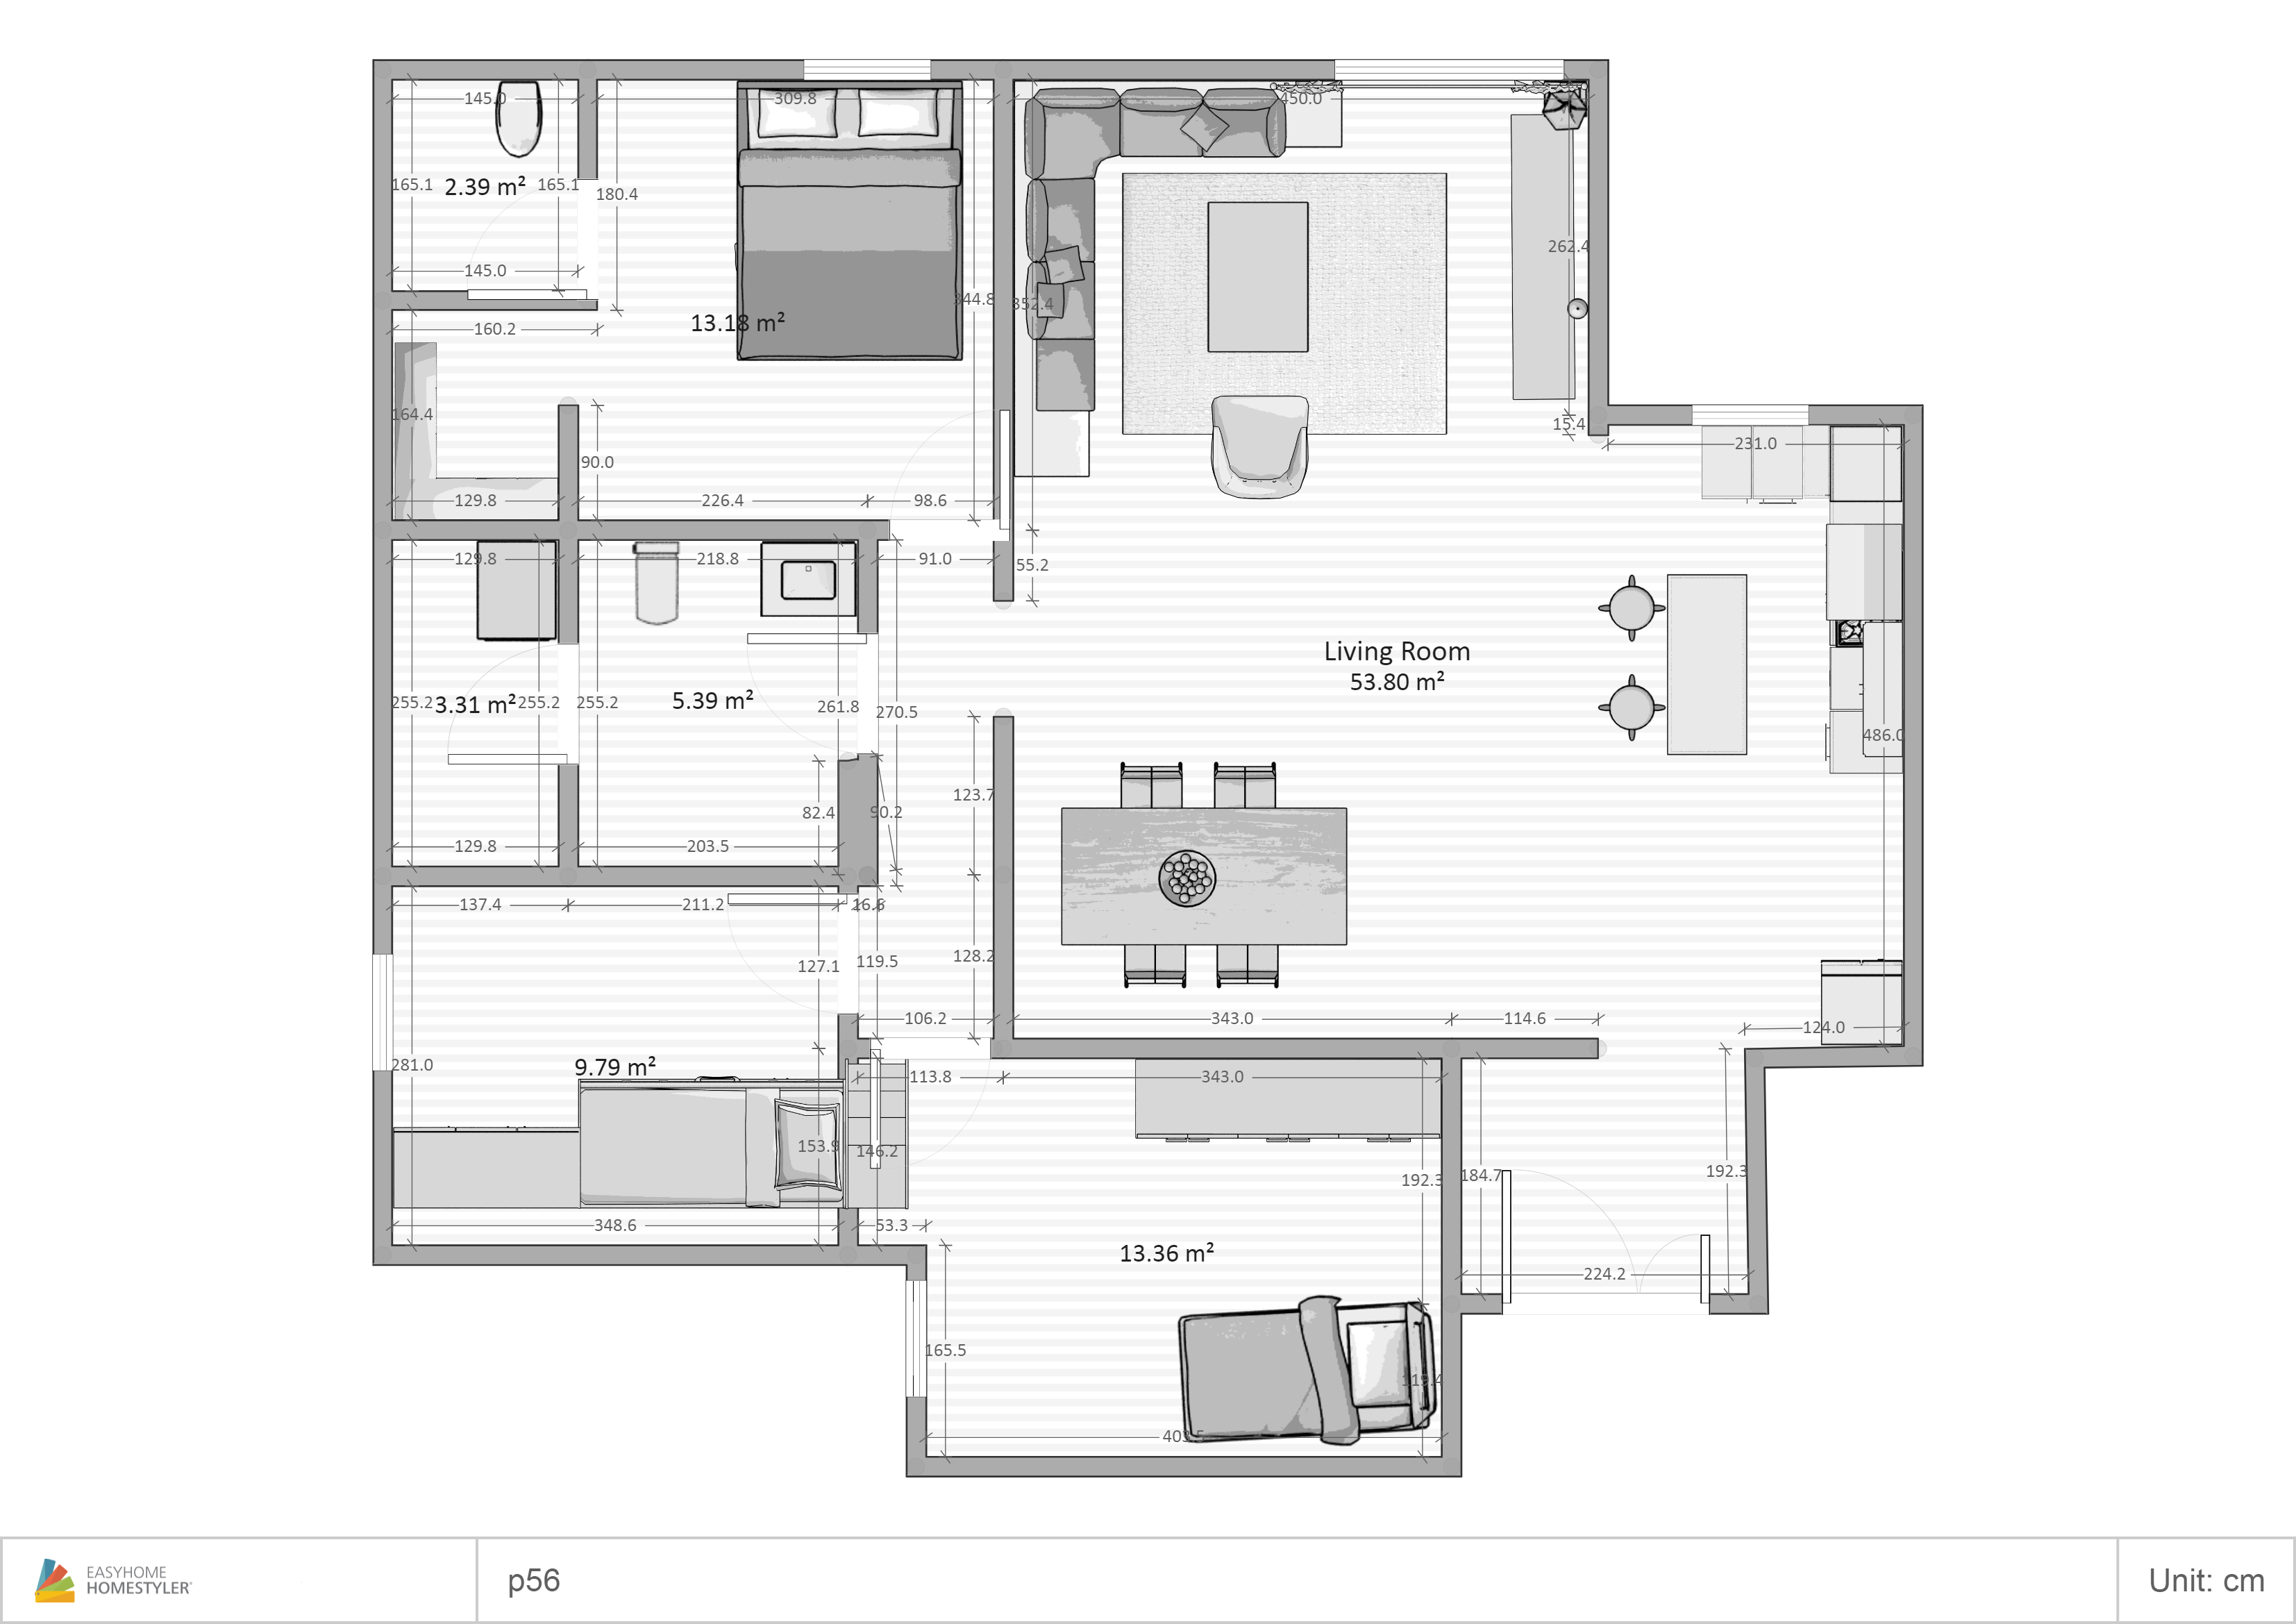wall: (371, 58, 395, 953), (1903, 404, 1925, 1069), (991, 1037, 1597, 1062), (905, 1454, 1462, 1478), (371, 1244, 928, 1269), (1440, 1053, 1465, 1478), (371, 866, 877, 884), (991, 715, 1015, 1060), (365, 60, 805, 77), (1743, 1051, 1769, 1311)
window: (1332, 58, 1562, 83), (369, 954, 399, 1077), (905, 1280, 931, 1399), (1690, 402, 1809, 427), (806, 58, 931, 81)
